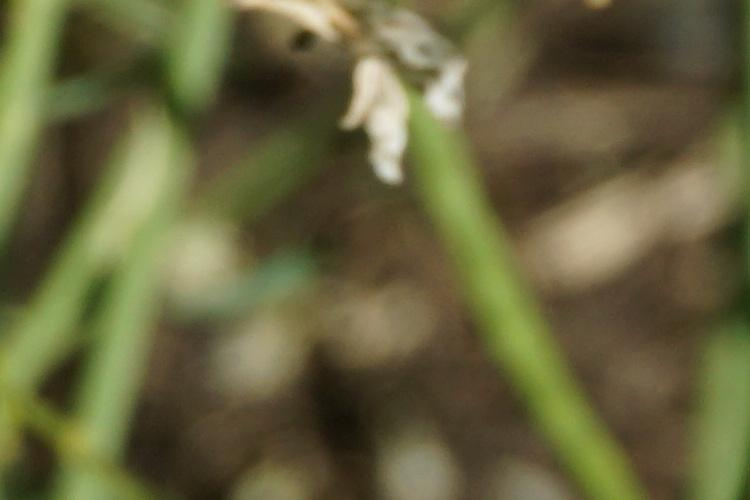white: (294, 24, 492, 195)
